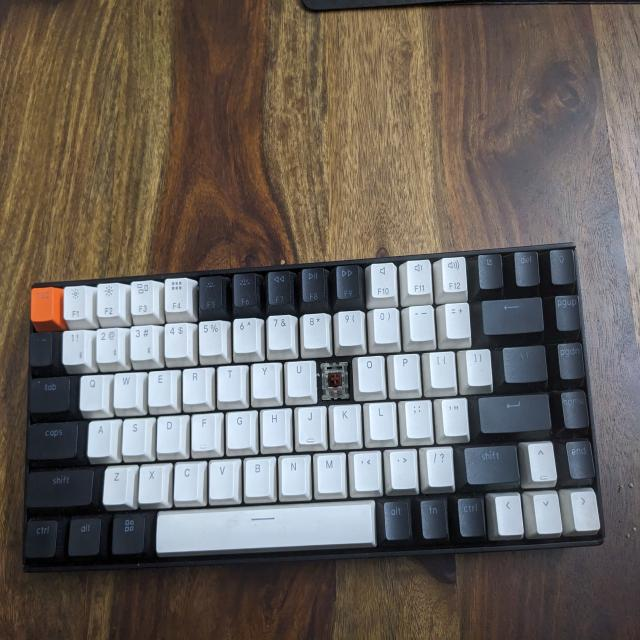C: (322, 364, 350, 402)
